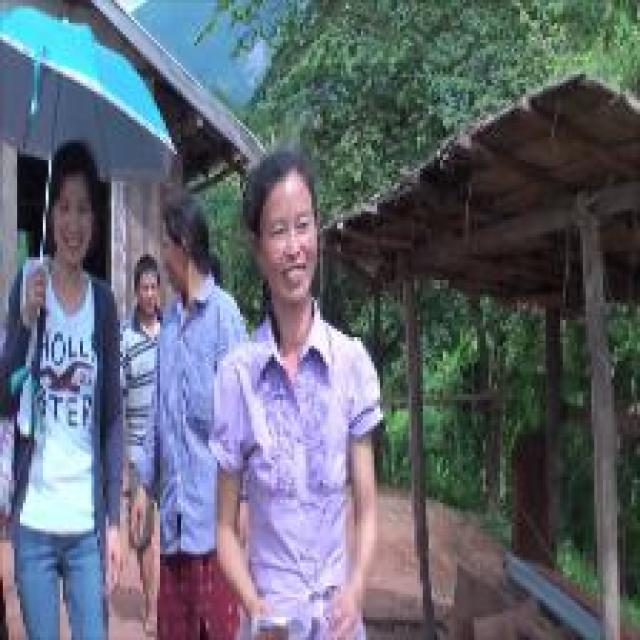other: (123, 521, 251, 633)
